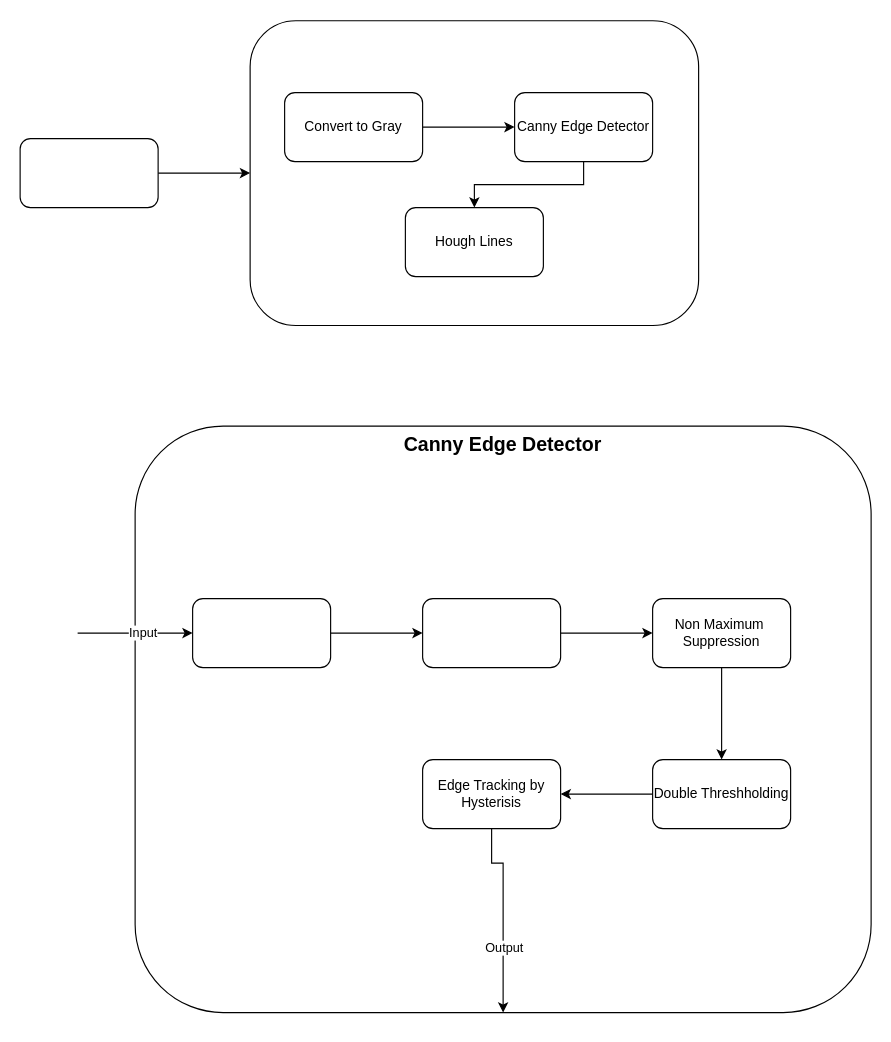
This 891x1042 diagram has some shape labels left out. Each missing label, with the centre of its shape:
"Get Video" belongs at point 88,172.
"Gradient Calculation" belongs at point 491,632.
"Noise Reduction Gaussian Filter" belongs at point 261,632.
